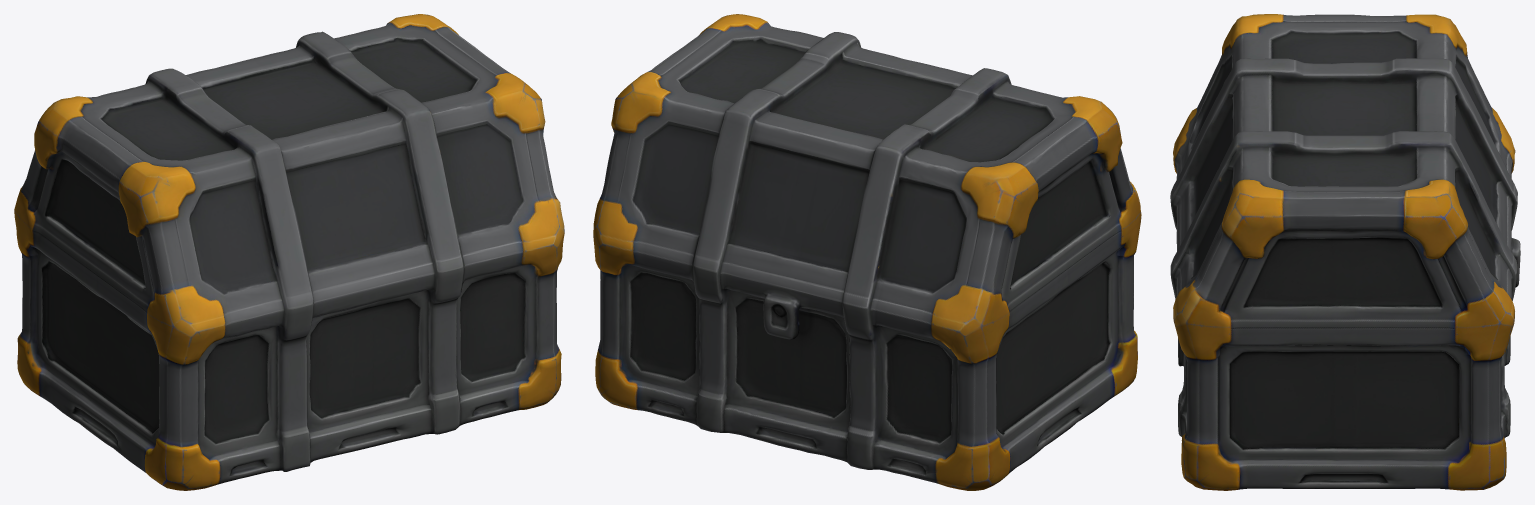
File: futuristic_cargo_crate_3d_model.fbx
The picture shows the model from 3 angles, left to right: view 1: azimuth 30°, elevation 25°; view 2: azimuth 150°, elevation 25°; view 3: azimuth 270°, elevation 25°; orthographic projection.
Parts seen in each view (by area): view 1: tripo_node_131062a4; view 2: tripo_node_131062a4; view 3: tripo_node_131062a4.
Boxes of the visible parts, left/top/right/bottom form: tripo_node_131062a4: left=14, top=14, right=564, bottom=490; tripo_node_131062a4: left=593, top=14, right=1141, bottom=490; tripo_node_131062a4: left=1170, top=14, right=1520, bottom=490.
Size of the model in its own units: 97.93 by 69.78 by 73.69.
1 material, 1 textured.
